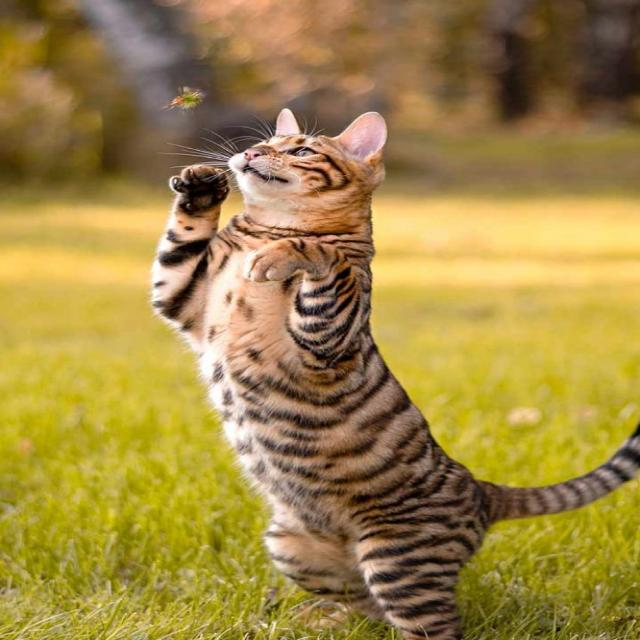Toyger: (147, 105, 640, 640)
